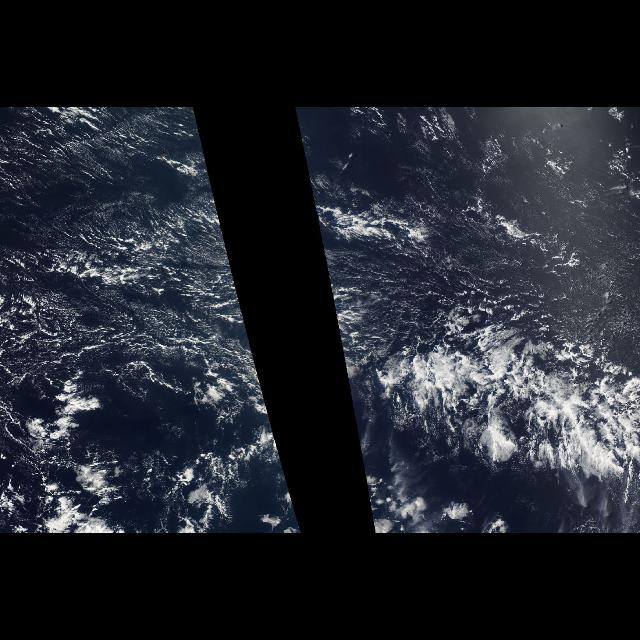Fish: (405, 340, 639, 480)
Gravel: (14, 366, 290, 534)
Sugar: (1, 108, 256, 416), (317, 108, 639, 350)
